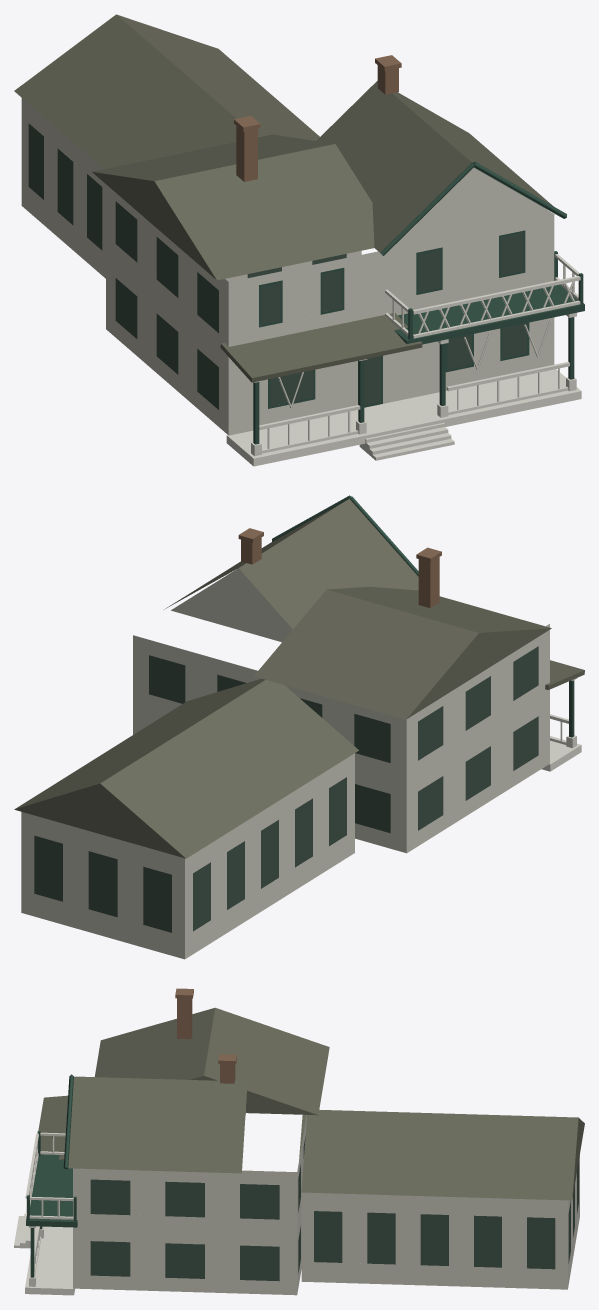
Rendered from haney-house-far.glb.
3 renders of one model, top to bottom at view 1: azimuth 30°, elevation 25°; view 2: azimuth 150°, elevation 25°; view 3: azimuth 270°, elevation 25°, orthographic. The views are drawn at different scales.
Parts seen in each view (by area): view 1: haney-house-0-roof, haney-house-0-stone, haney-house-0-trim, haney-house-0-glass, haney-house-0-green, haney-house-0-brick; view 2: haney-house-0-roof, haney-house-0-stone, haney-house-0-glass, haney-house-0-brick, haney-house-0-green, haney-house-0-trim; view 3: haney-house-0-roof, haney-house-0-stone, haney-house-0-glass, haney-house-0-trim, haney-house-0-green, haney-house-0-brick.
Boxes of the visible parts, left/top/right/bottom form: haney-house-0-roof: left=14, top=14, right=553, bottom=382; haney-house-0-stone: left=21, top=98, right=554, bottom=435; haney-house-0-trim: left=226, top=254, right=581, bottom=466; haney-house-0-glass: left=28, top=123, right=526, bottom=409; haney-house-0-green: left=253, top=161, right=584, bottom=444; haney-house-0-brick: left=234, top=55, right=401, bottom=181; haney-house-0-roof: left=14, top=499, right=584, bottom=858; haney-house-0-stone: left=21, top=568, right=549, bottom=959; haney-house-0-glass: left=34, top=646, right=538, bottom=932; haney-house-0-brick: left=238, top=528, right=441, bottom=608; haney-house-0-green: left=272, top=495, right=574, bottom=737; haney-house-0-trim: left=541, top=678, right=581, bottom=771; haney-house-0-roof: left=38, top=1007, right=584, bottom=1200; haney-house-0-stone: left=73, top=1110, right=579, bottom=1295; haney-house-0-glass: left=90, top=1136, right=578, bottom=1281; haney-house-0-trim: left=14, top=1132, right=74, bottom=1295; haney-house-0-green: left=26, top=1074, right=77, bottom=1277; haney-house-0-brick: left=175, top=988, right=236, bottom=1083.
Bounding box in the file's own units: 13.47 × 10.2 × 24.38.
